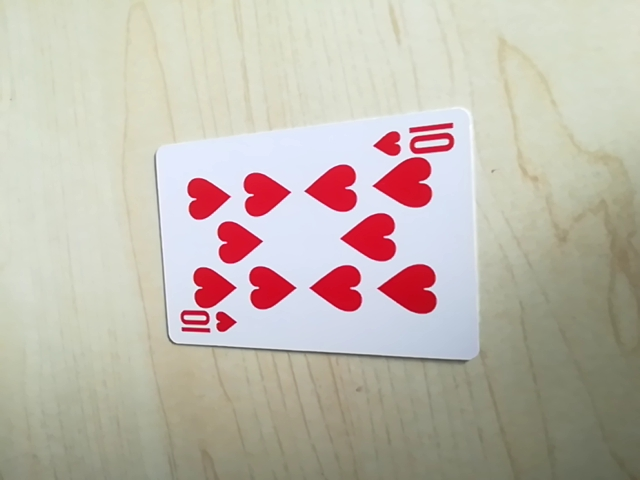hx 10: (370, 118, 458, 159), (173, 309, 240, 343)
